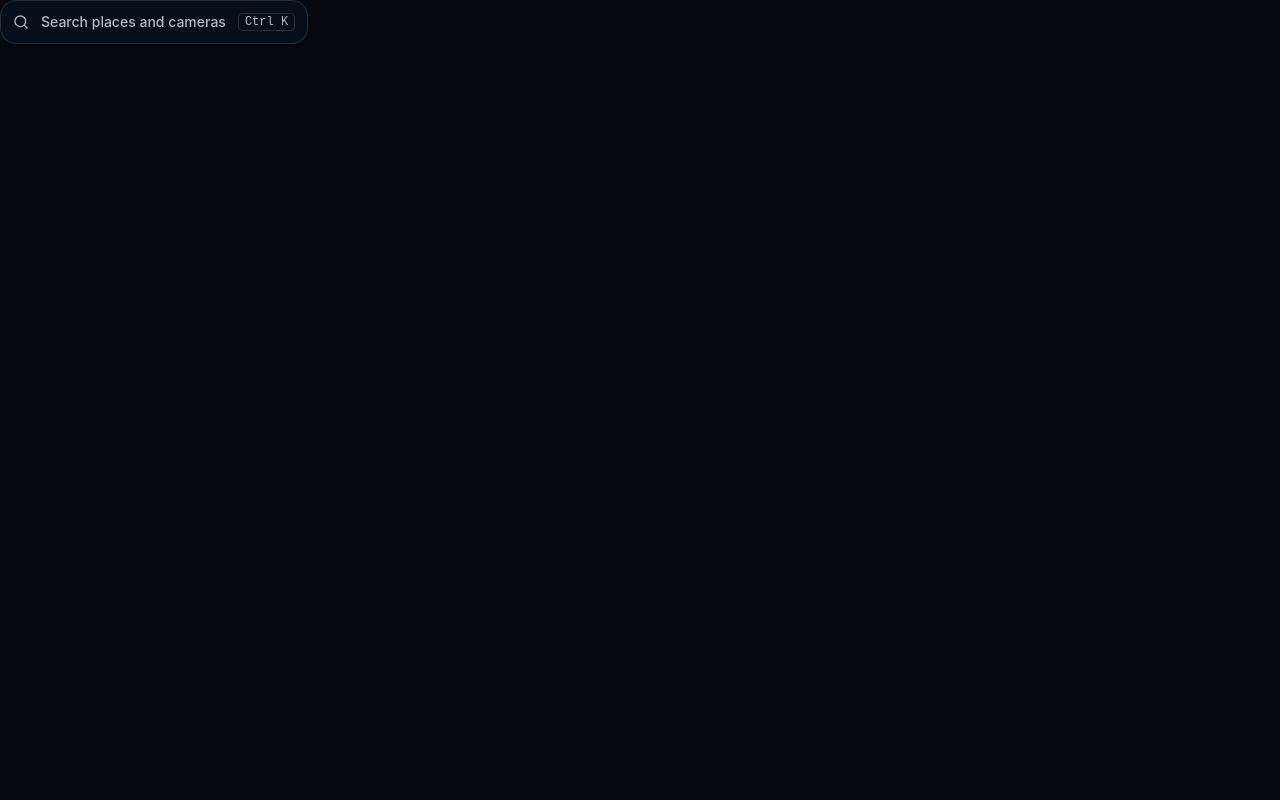
Test case: SearchDialog › explains a rate limit
Type keys "{Control>}k{/Control}"
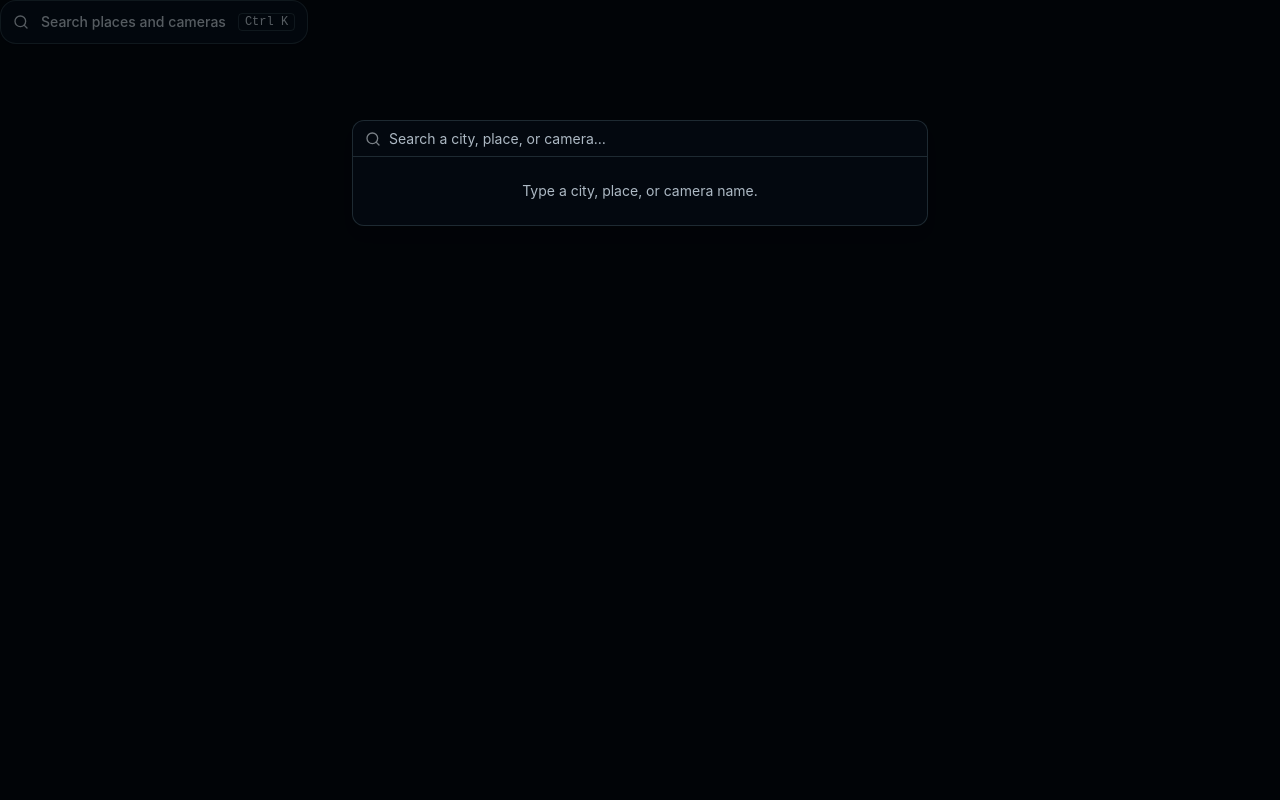
In the dropdown: (652, 138) top-left (389, 118), bottom-right (915, 158), type "tokyo"
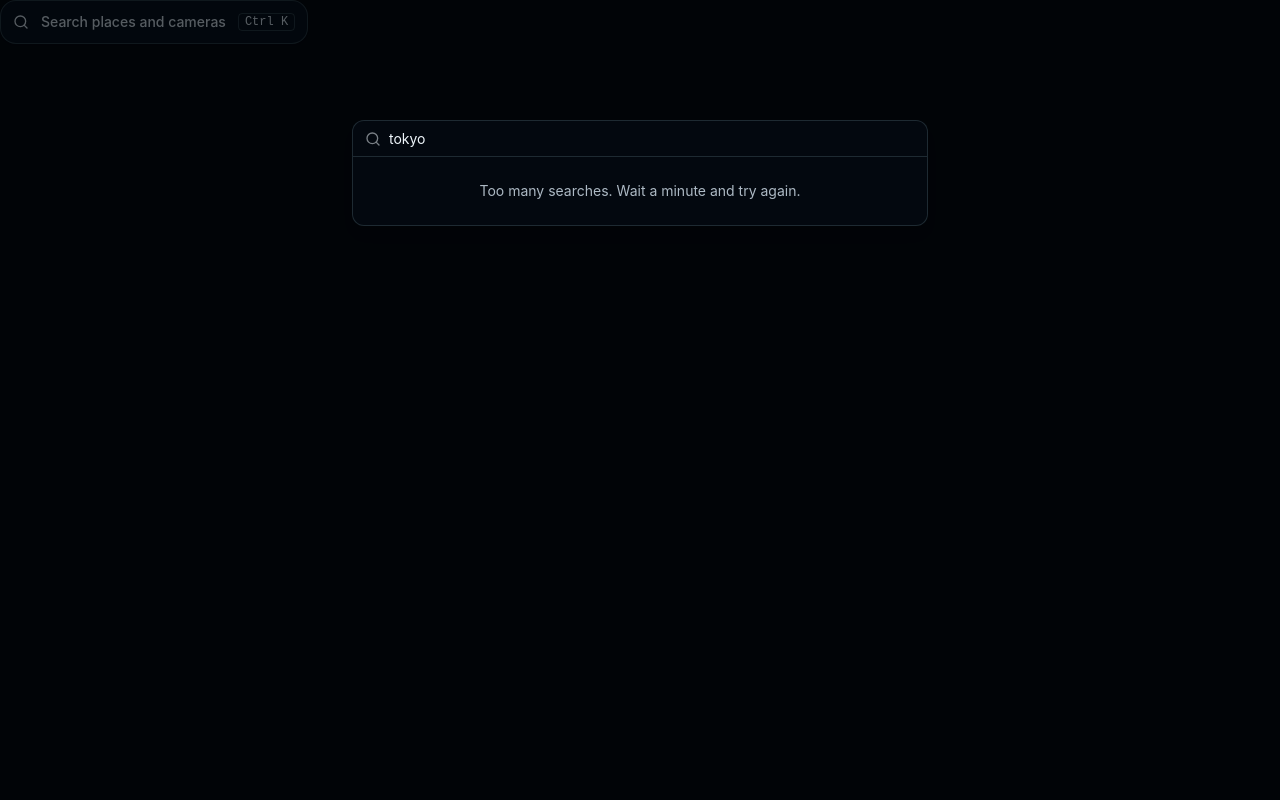
Expected: the text "Too many searches. Wait a minute and try again." is shown, top-left (480, 182), bottom-right (800, 199)
